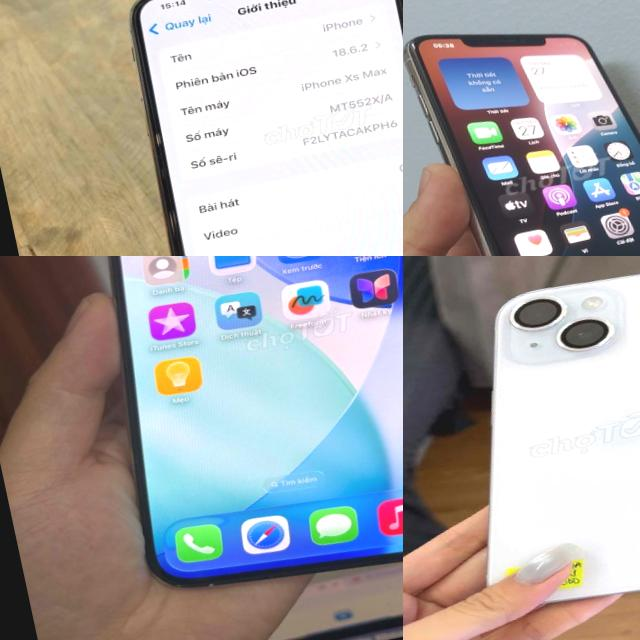gen_11: (403, 34, 640, 256)
gen_15: (42, 256, 403, 614), (436, 256, 640, 640)
gen_x_xs: (101, 0, 403, 256)
